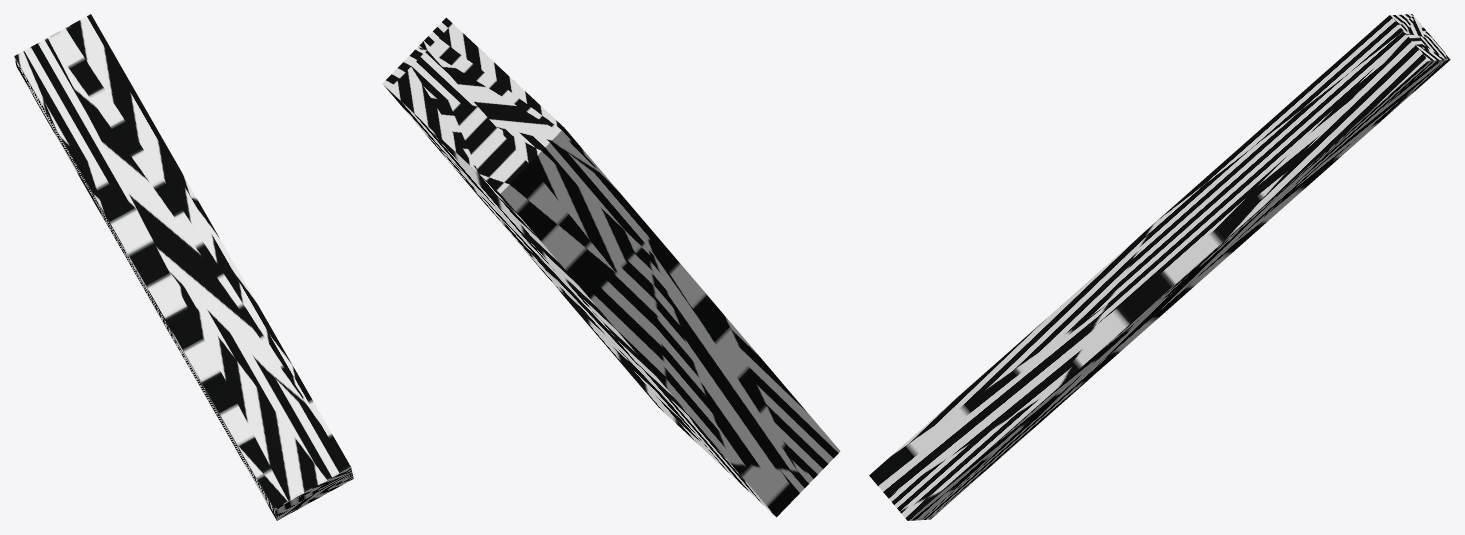
3 views of the same model, side by side, from view 1: azimuth 30°, elevation 25°; view 2: azimuth 150°, elevation 25°; view 3: azimuth 270°, elevation 25° (orthographic). The views are drawn at different scales.
Parts seen in each view (by area): view 1: Cube.003; view 2: Cube.003; view 3: Cube.003.
Boxes of the visible parts, x1=… form: Cube.003: x1=14, y1=14, x2=353, y2=520; Cube.003: x1=382, y1=17, x2=840, y2=517; Cube.003: x1=869, y1=14, x2=1450, y2=520.
Bounding box in the file's own units: 1.09 × 2.7 × 2.87.
1 material, 1 textured.
